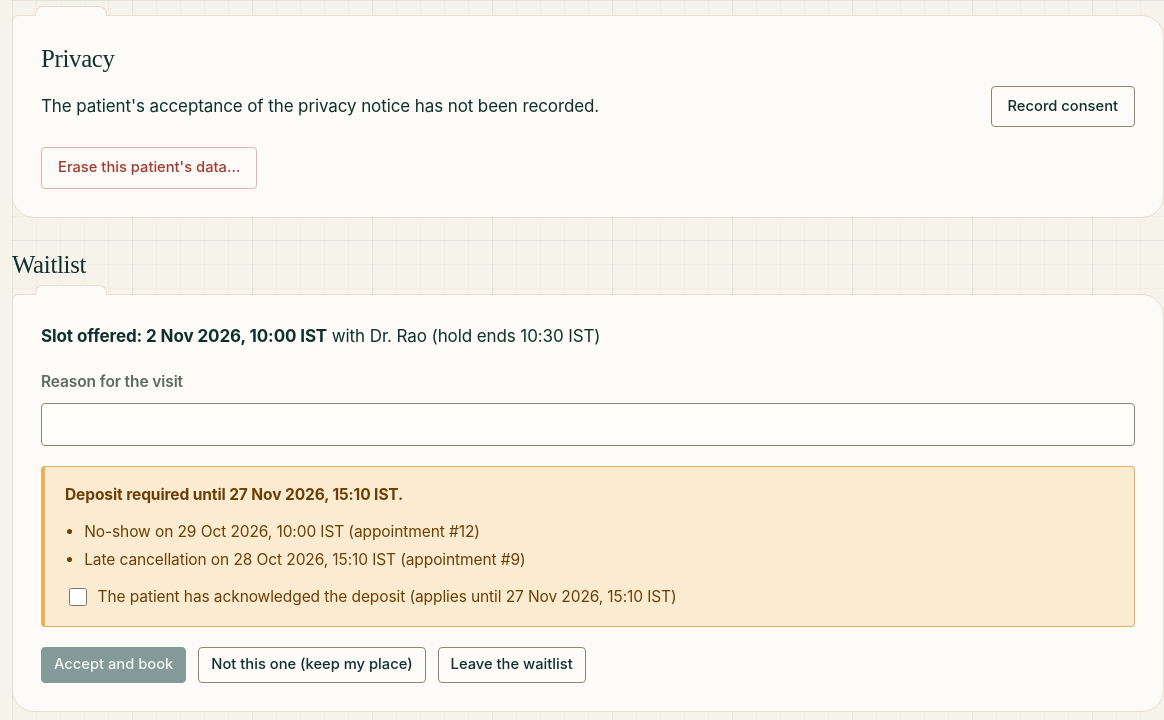
Test: the waitlist › asks a flagged patient to acknowledge the deposit before accepting
The width and height of the screenshot is (1164, 720).
(page scrolled)
Type "Fever" into the field labelled "Reason for the visit".
click(588, 424); type("Fever")  # box x1=41 y1=403 x2=1135 y2=446
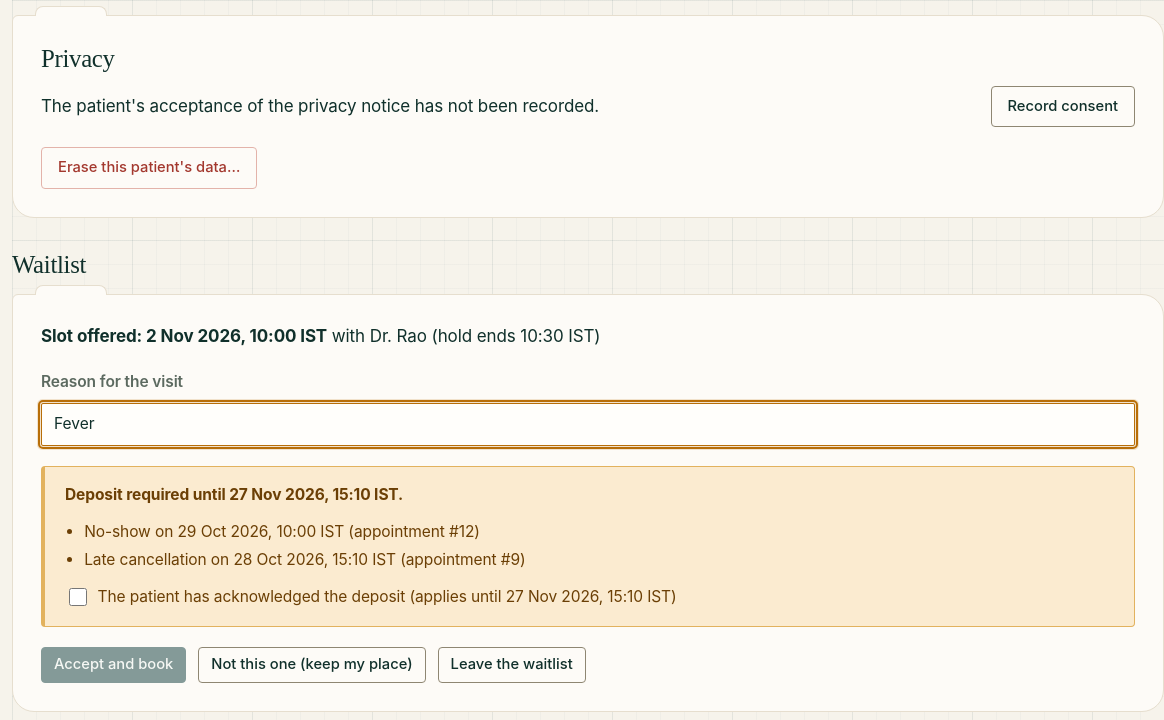
Check: the button "Accept and book" is disabled, box x1=41 y1=647 x2=186 y2=683
Click the checkbox.
click(78, 597)  # box x1=69 y1=588 x2=87 y2=606
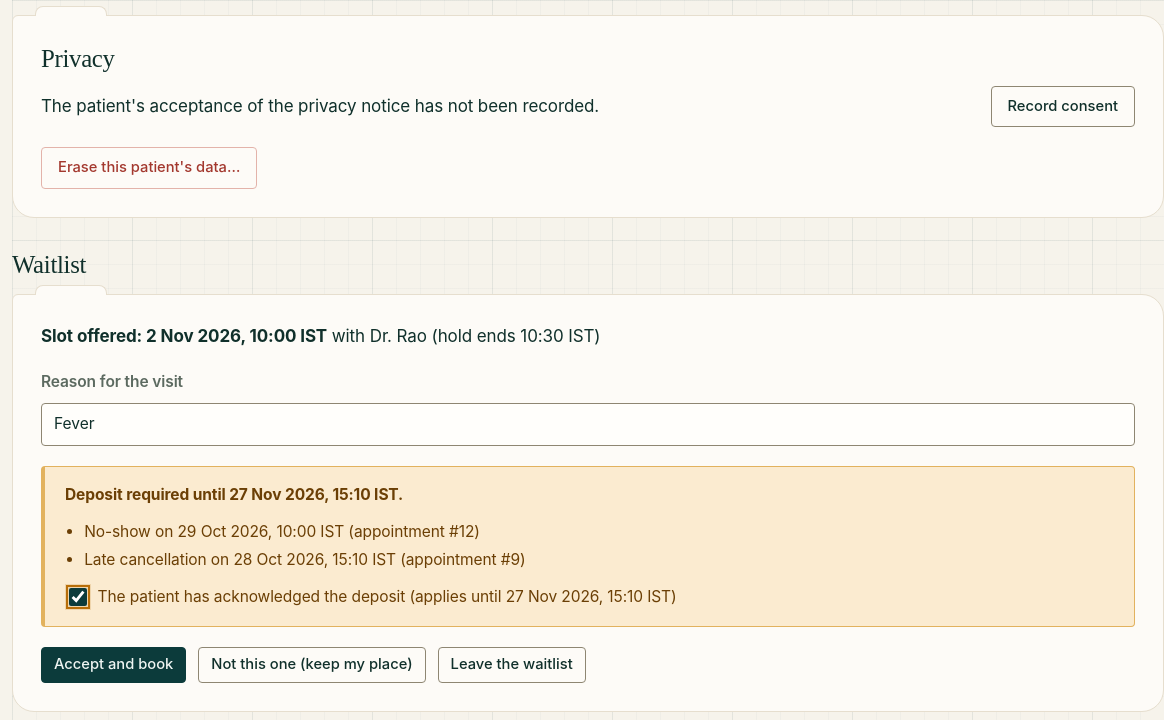
Check: the button "Accept and book" is enabled, box x1=41 y1=647 x2=186 y2=683
